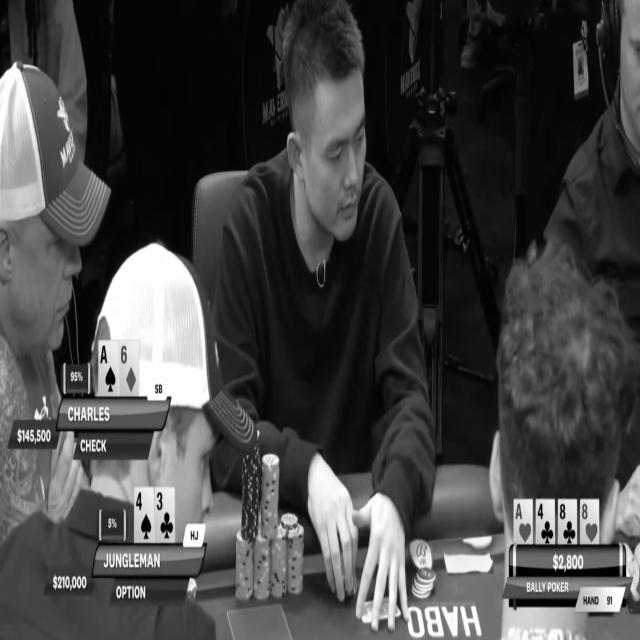3C: (154, 487, 175, 542)
4C: (536, 498, 555, 545)
4S: (134, 488, 154, 542)
6D: (119, 342, 139, 397)
8C: (558, 499, 578, 545)
8H: (581, 500, 599, 546)
AH: (513, 499, 533, 544)
AS: (98, 340, 120, 396)
